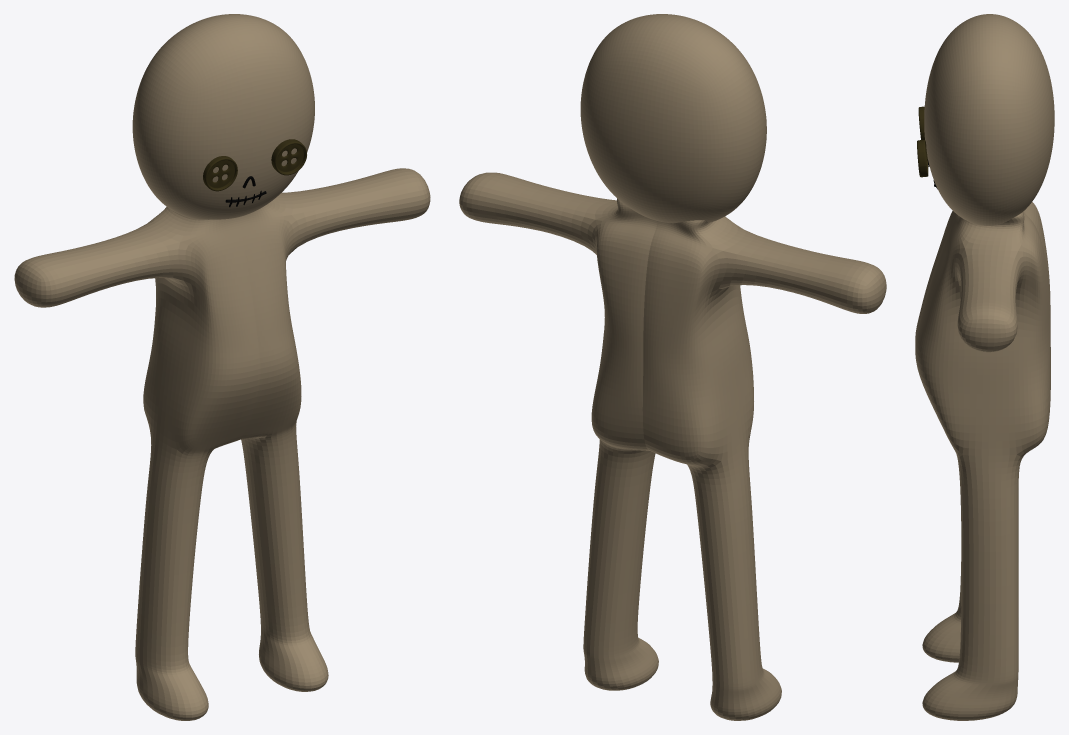
Rendered from muñeco.fbx.
The picture shows the model from 3 angles, left to right: view 1: azimuth 30°, elevation 25°; view 2: azimuth 150°, elevation 25°; view 3: azimuth 270°, elevation 25°; orthographic projection. The views are drawn at different scales.
Parts seen in each view (by area): view 1: Cuerpo, Cabeza, Ojo derecho, Ojo izquierdo; view 2: Cuerpo, Cabeza; view 3: Cuerpo, Cabeza, Ojo derecho.
Boxes of the visible parts, bbox=[...] form: Cuerpo: bbox=[14, 168, 430, 720]; Cabeza: bbox=[132, 14, 314, 219]; Ojo derecho: bbox=[271, 139, 306, 175]; Ojo izquierdo: bbox=[203, 156, 237, 191]; Cuerpo: bbox=[459, 172, 886, 720]; Cabeza: bbox=[580, 14, 766, 223]; Cuerpo: bbox=[915, 202, 1050, 720]; Cabeza: bbox=[924, 14, 1054, 225]; Ojo derecho: bbox=[917, 140, 928, 177].
Size of the model in its own units: 607 by 958 by 183.
